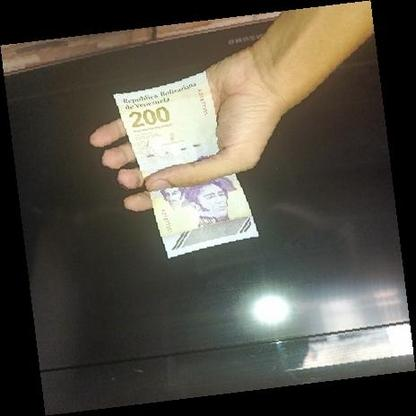two_hundred-front-vef: (112, 70, 260, 260)
